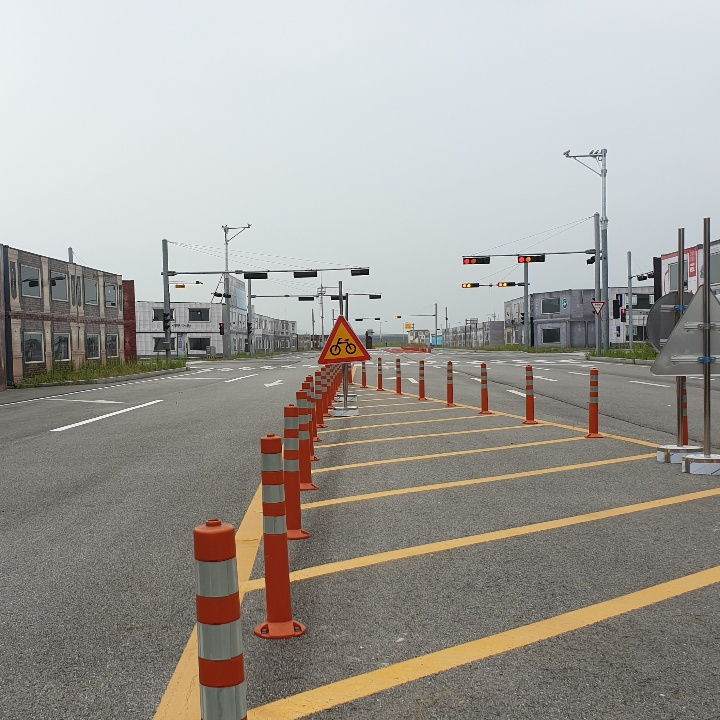bicycle: (317, 315, 370, 365)
